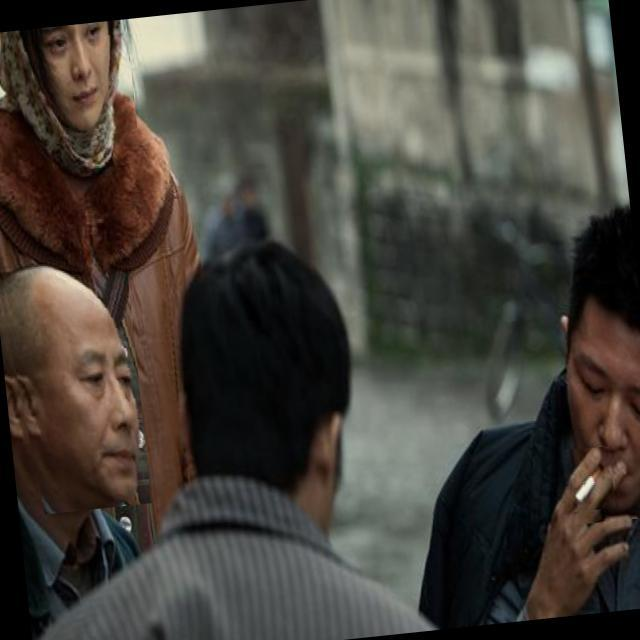cigarette: (562, 444, 615, 512)
